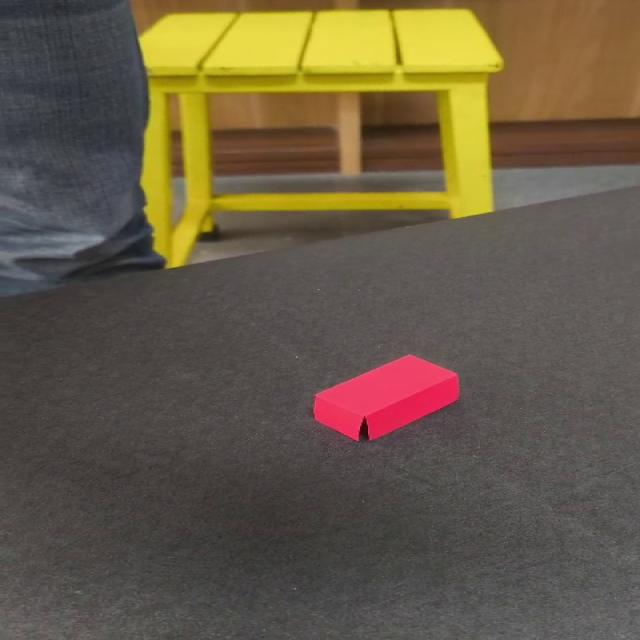red block: (311, 352, 460, 442)
